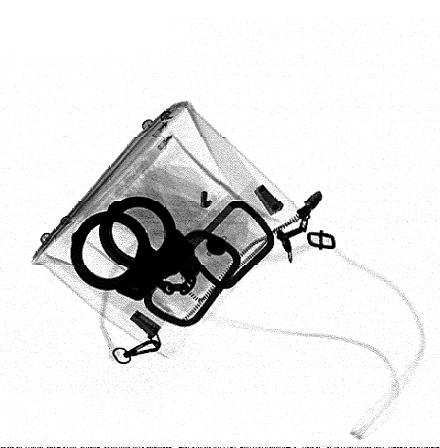HandCuffs: (70, 196, 203, 302)
